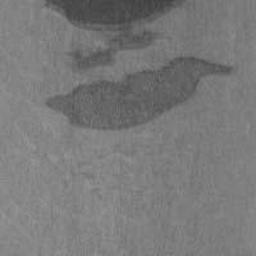Oil spot: (38, 0, 239, 132)
